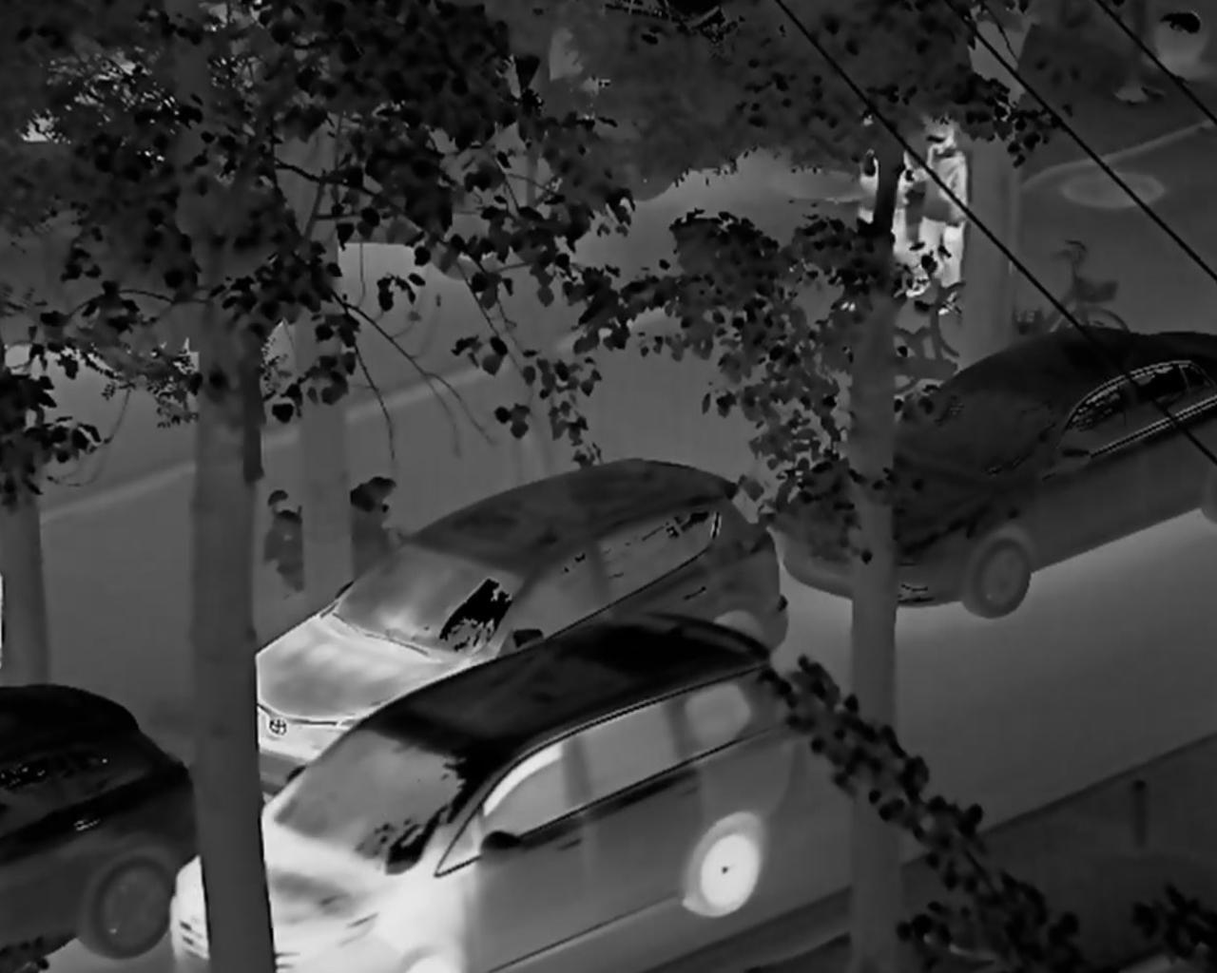person: (911, 104, 976, 309)
